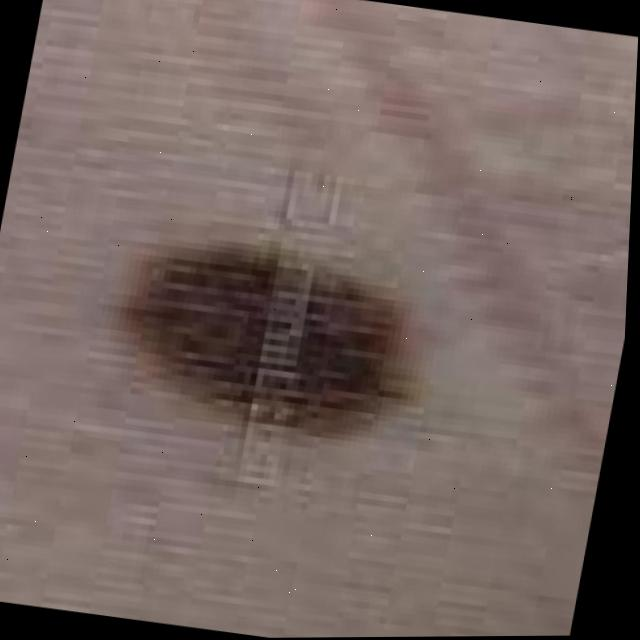Melasma: (143, 208, 411, 430)
